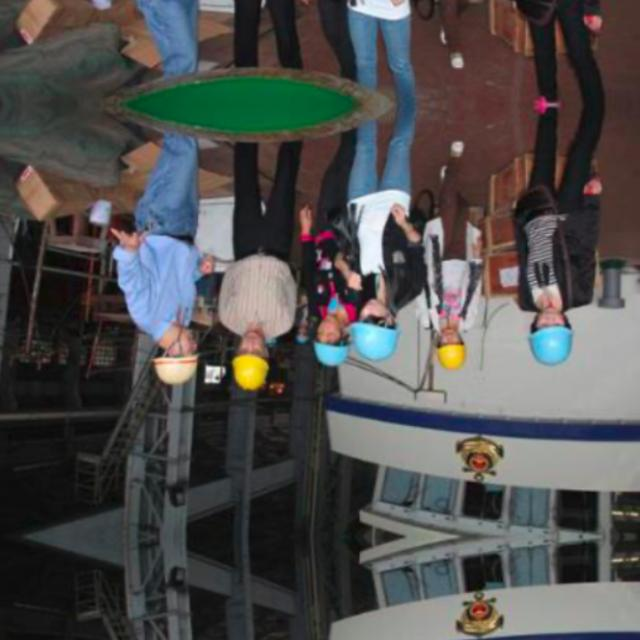safetyhelmet: (351, 321, 399, 359), (529, 325, 573, 364), (232, 354, 269, 389), (153, 354, 197, 383), (314, 340, 350, 365), (438, 343, 466, 369), (296, 332, 308, 343)
